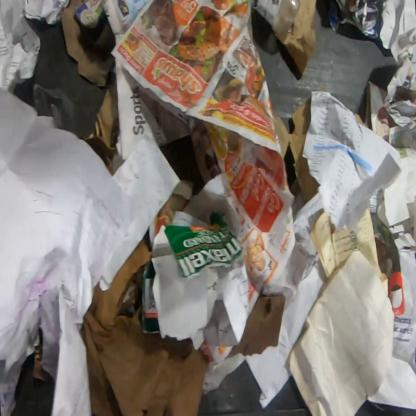cardboard: (140, 212, 245, 351), (60, 0, 117, 88), (275, 96, 321, 205), (78, 71, 121, 169), (365, 81, 398, 144)
rigid_plastic: (250, 0, 301, 39)
